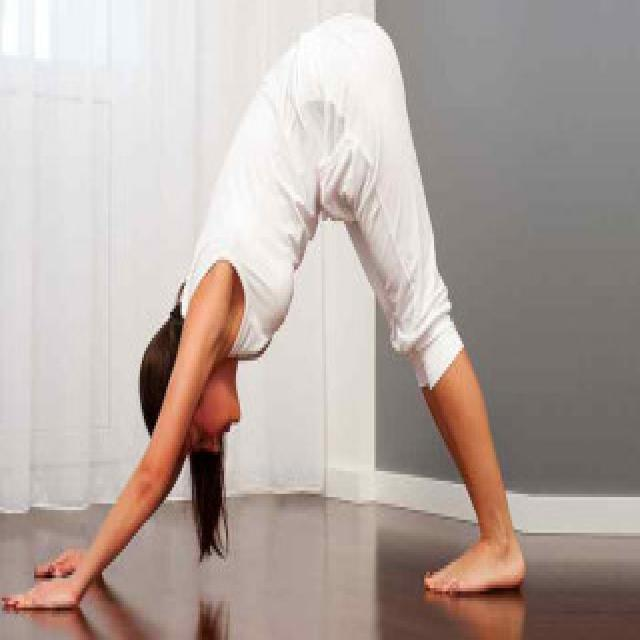yoga-pose downward: (14, 17, 532, 620)
